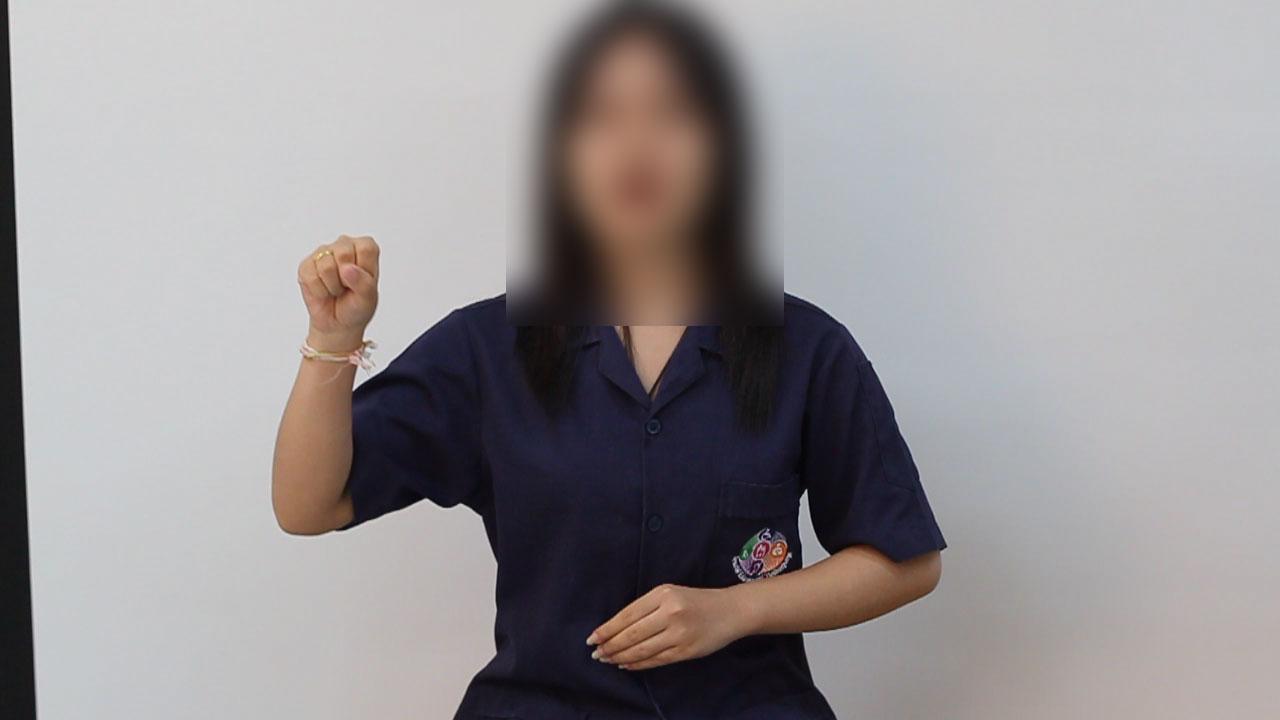sor: (276, 216, 393, 370)
